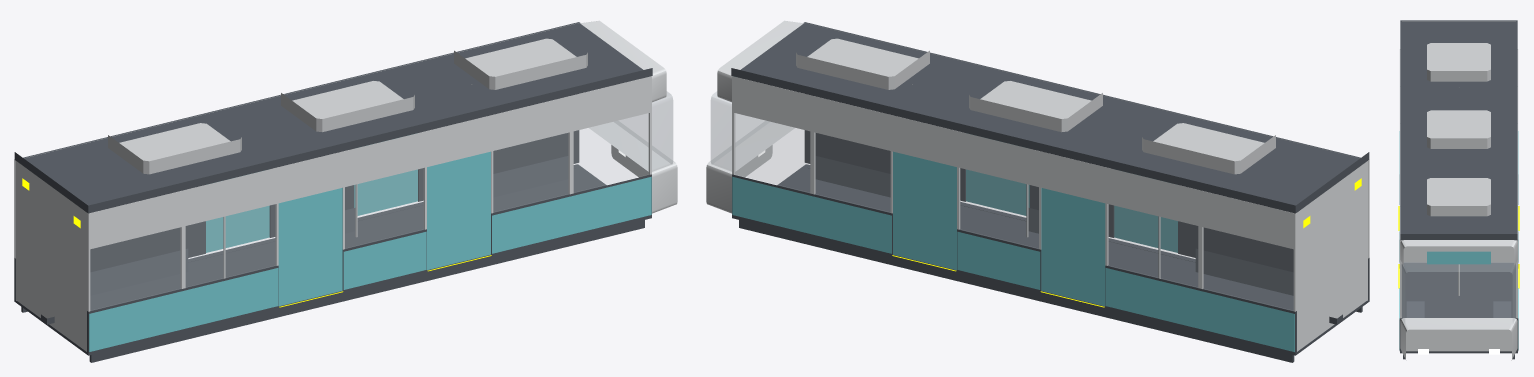
Rendered from ext_maglev_car_body_05.glb.
3 views of the same model, side by side, from view 1: azimuth 30°, elevation 25°; view 2: azimuth 150°, elevation 25°; view 3: azimuth 270°, elevation 25° (orthographic). The views are drawn at different scales.
Parts seen in each view (by area): view 1: Roof, Side_Glass, Wall, Livery_Stripe, Roof_Pods, Underframe, End_Wall, Lower_Wall, Door_L_01, Door_L_02, Skirts, Cab_Nose (+4 smaller); view 2: Roof, Side_Glass, Wall, Livery_Stripe, Roof_Pods, Underframe, End_Wall, Lower_Wall, Door_R_01, Door_R_02, Skirts, Cab_Nose (+4 smaller); view 3: Roof, Roof_Pods, Cab_Glass, Cab_Nose, Underframe, Wall, Destination_Screen, Seats, Livery_Stripe, Door_Sills, Lower_Wall, Headlights (+1 smaller).
Boxes of the visible parts, bbox=[...] form: Roof: bbox=[14, 22, 652, 213]; Side_Glass: bbox=[90, 113, 648, 310]; Wall: bbox=[14, 23, 651, 311]; Livery_Stripe: bbox=[89, 176, 651, 351]; Roof_Pods: bbox=[108, 38, 587, 174]; Underframe: bbox=[14, 164, 651, 355]; End_Wall: bbox=[16, 161, 87, 351]; Lower_Wall: bbox=[14, 130, 651, 353]; Door_L_01: bbox=[278, 188, 342, 306]; Door_L_02: bbox=[427, 151, 490, 269]; Skirts: bbox=[21, 168, 644, 362]; Cab_Nose: bbox=[580, 20, 677, 213]; Roof: bbox=[731, 22, 1369, 213]; Side_Glass: bbox=[735, 113, 1293, 310]; Wall: bbox=[732, 23, 1369, 311]; Livery_Stripe: bbox=[732, 176, 1294, 351]; Roof_Pods: bbox=[796, 38, 1275, 174]; Underframe: bbox=[732, 164, 1369, 355]; End_Wall: bbox=[1296, 161, 1367, 351]; Lower_Wall: bbox=[732, 130, 1369, 353]; Door_R_01: bbox=[1041, 188, 1105, 306]; Door_R_02: bbox=[893, 151, 956, 269]; Skirts: bbox=[739, 168, 1362, 362]; Cab_Nose: bbox=[706, 20, 803, 213]; Roof: bbox=[1400, 20, 1517, 240]; Roof_Pods: bbox=[1427, 43, 1490, 216]; Cab_Glass: bbox=[1401, 262, 1516, 322]; Cab_Nose: bbox=[1400, 240, 1517, 360]; Underframe: bbox=[1400, 262, 1517, 353]; Wall: bbox=[1399, 49, 1518, 318]; Destination_Screen: bbox=[1427, 251, 1490, 264]; Seats: bbox=[1406, 301, 1511, 317]; Livery_Stripe: bbox=[1399, 131, 1518, 349]; Door_Sills: bbox=[1398, 206, 1519, 288]; Lower_Wall: bbox=[1399, 318, 1518, 351]; Headlights: bbox=[1418, 349, 1499, 354].
Size of the model in its own units: 12.16 by 3.34 by 2.66.
